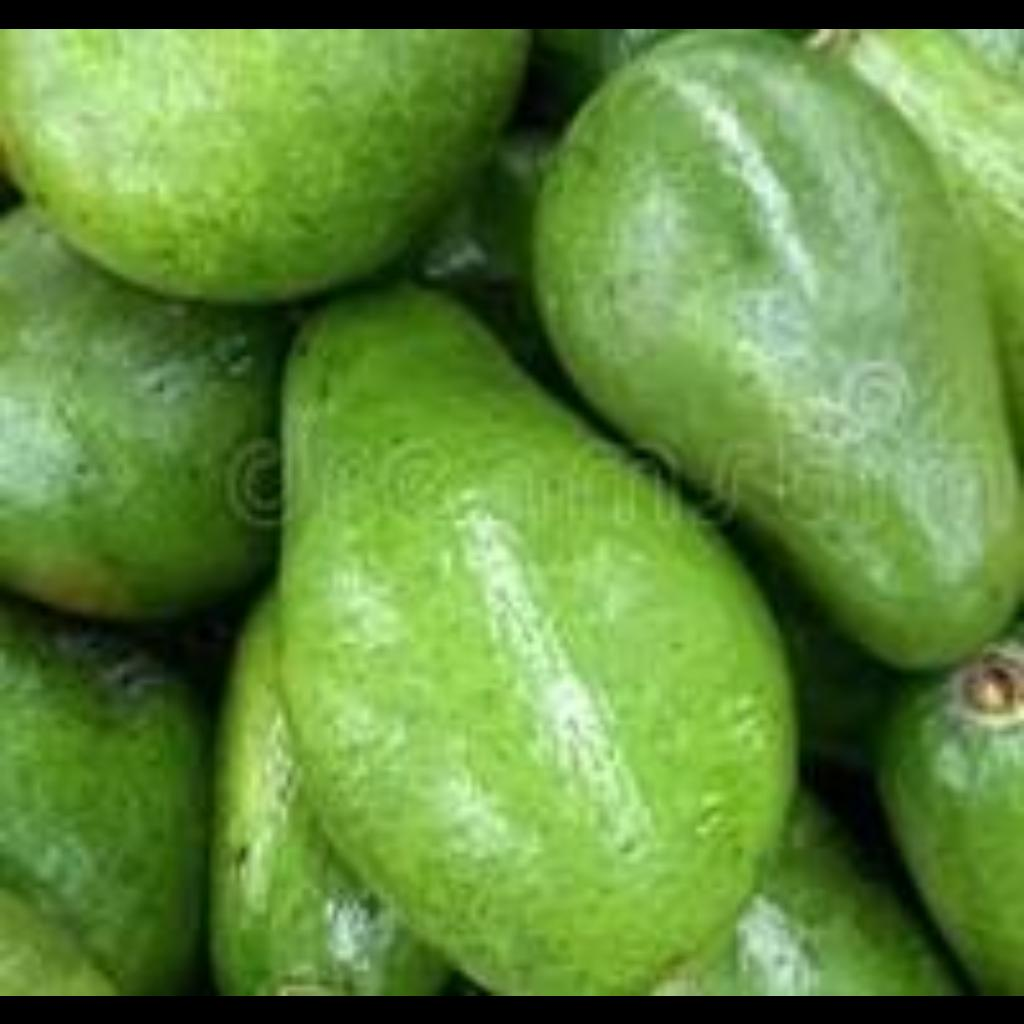fruto_sano: (246, 320, 794, 975), (552, 48, 1023, 621), (3, 33, 535, 263)
